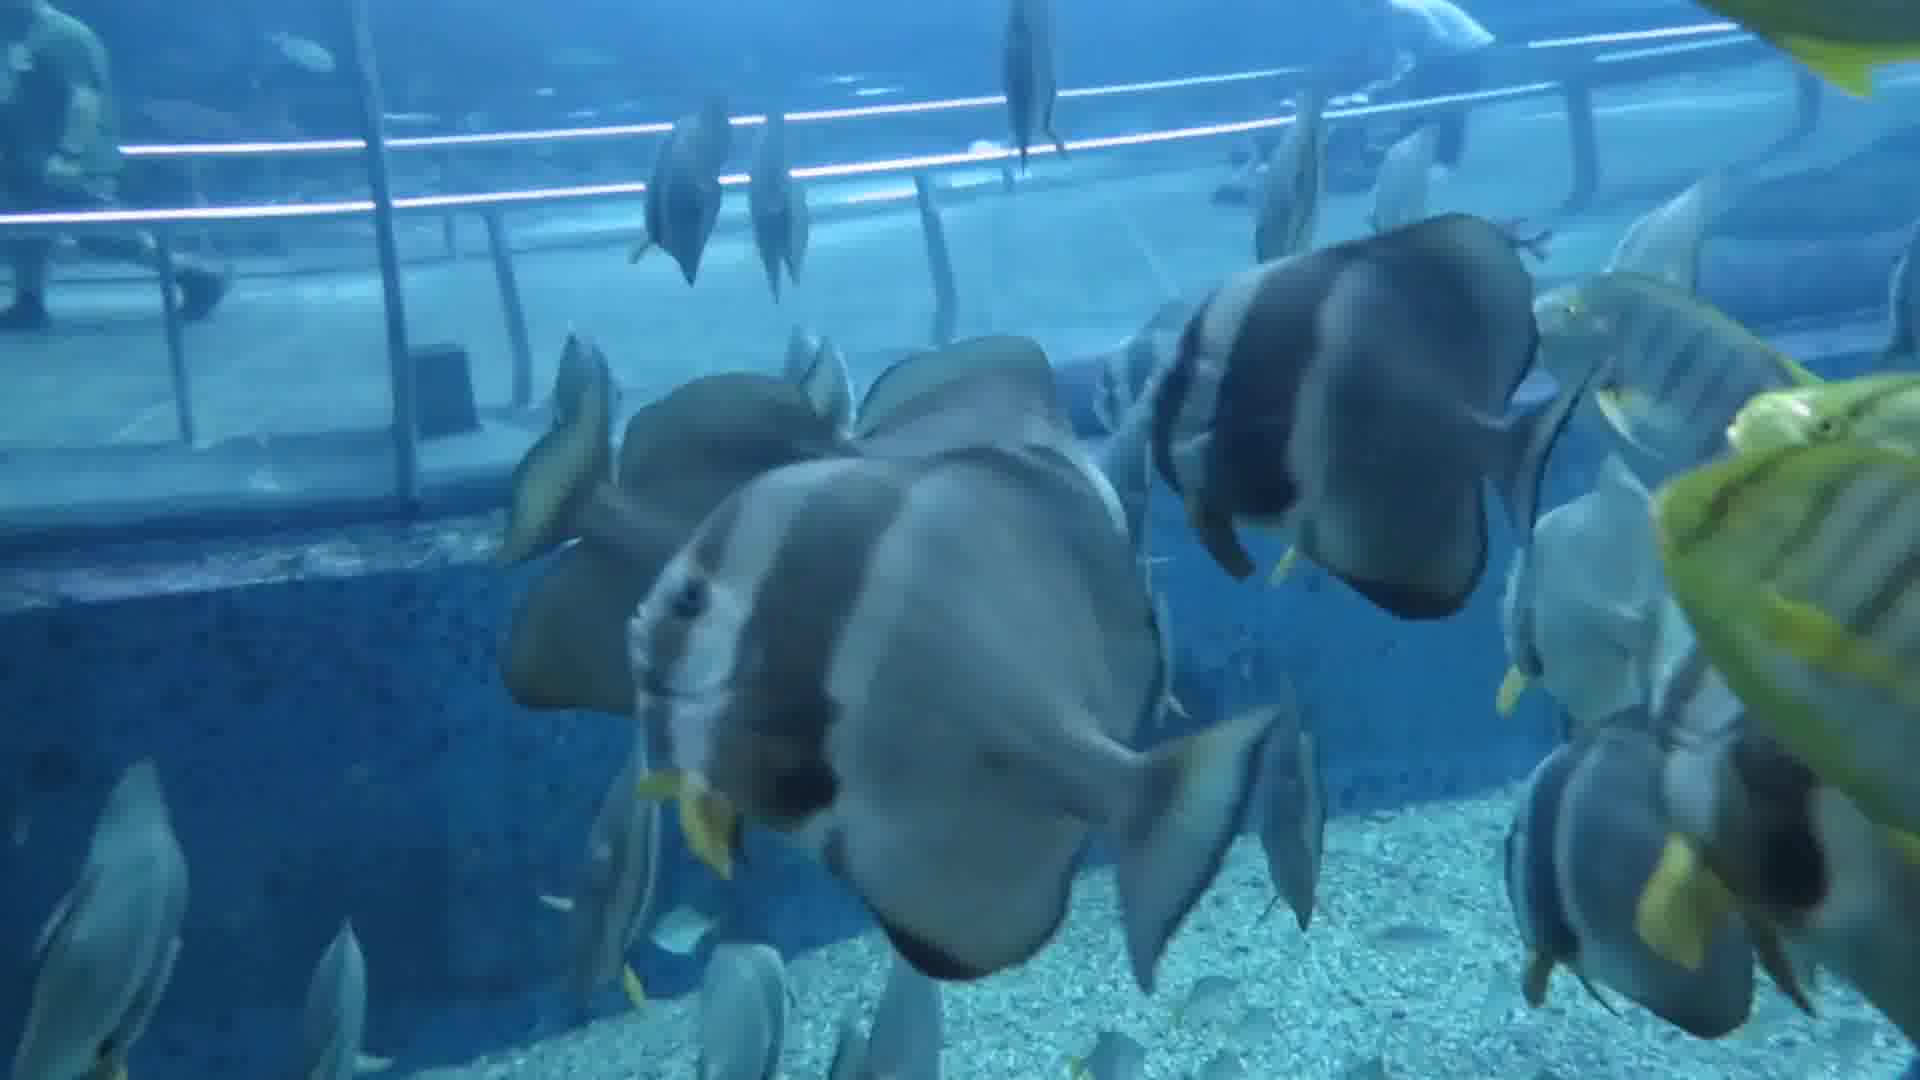Platax teira: (608, 448, 1171, 1036), (1139, 146, 1592, 626)
